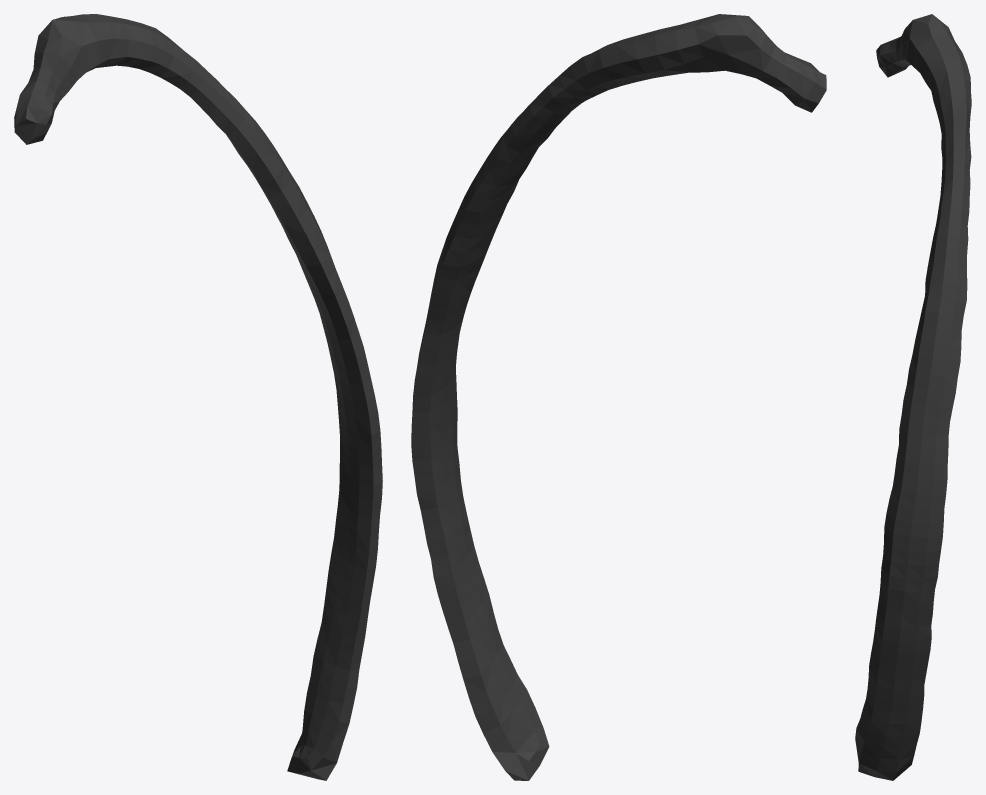
File: Rib_5.glb
3 renders of one model, left to right at view 1: azimuth 30°, elevation 25°; view 2: azimuth 150°, elevation 25°; view 3: azimuth 270°, elevation 25°, orthographic. The views are drawn at different scales.
Parts seen in each view (by area): view 1: Rib_5; view 2: Rib_5; view 3: Rib_5.
Part boxes in pixels (box(x1,y1,x2,y2)): Rib_5: box(14, 14, 382, 780); Rib_5: box(411, 14, 826, 780); Rib_5: box(855, 14, 971, 780).
Size of the model in its own units: 4 by 8.22 by 1.3.
1 material, 1 textured.
